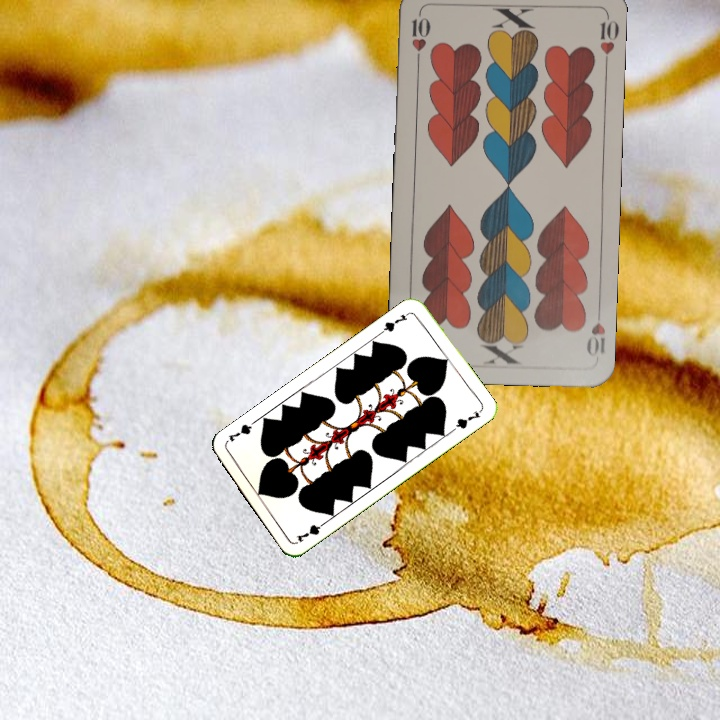G7: (292, 517, 330, 545), (377, 308, 413, 336)
H10: (582, 303, 608, 360), (407, 6, 432, 65)
